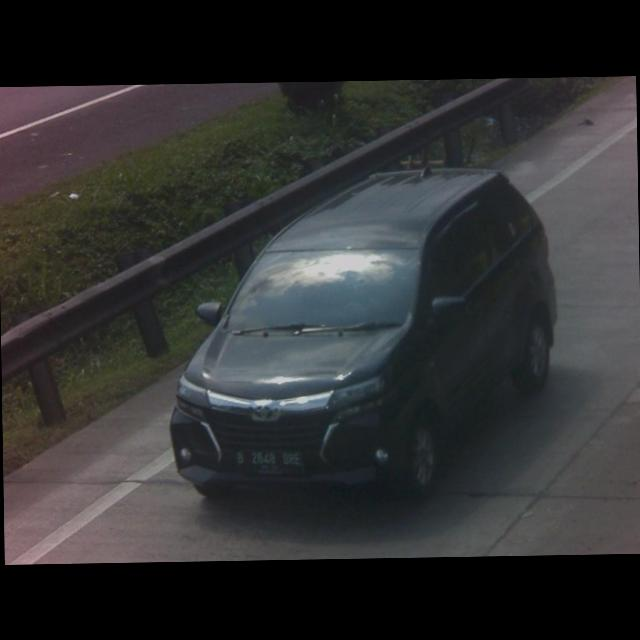plate: (234, 448, 306, 476)
